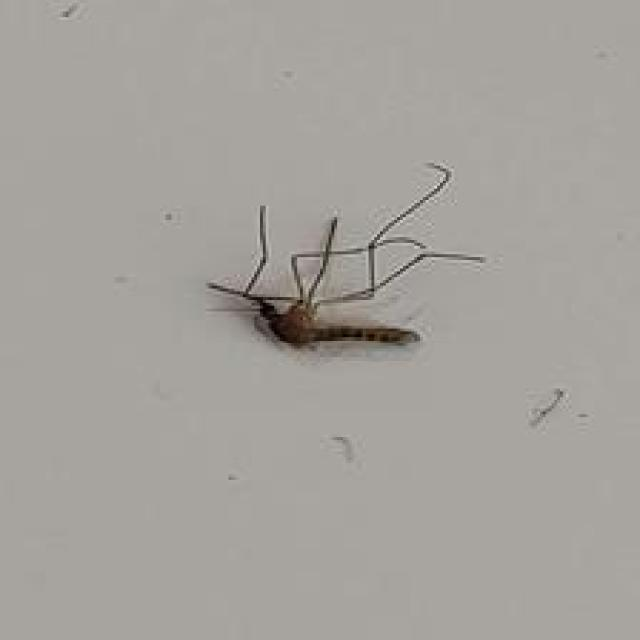Culex: (205, 160, 486, 351)
